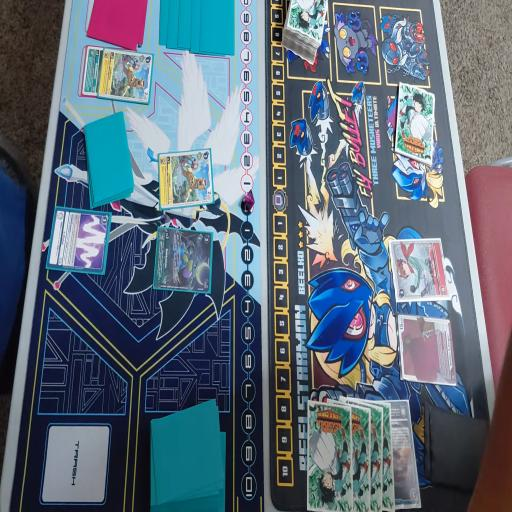card: (47, 209, 112, 272), (157, 146, 214, 214), (152, 230, 212, 294), (396, 318, 454, 384), (391, 236, 447, 304), (386, 402, 421, 510), (98, 48, 153, 105), (78, 47, 102, 97)
